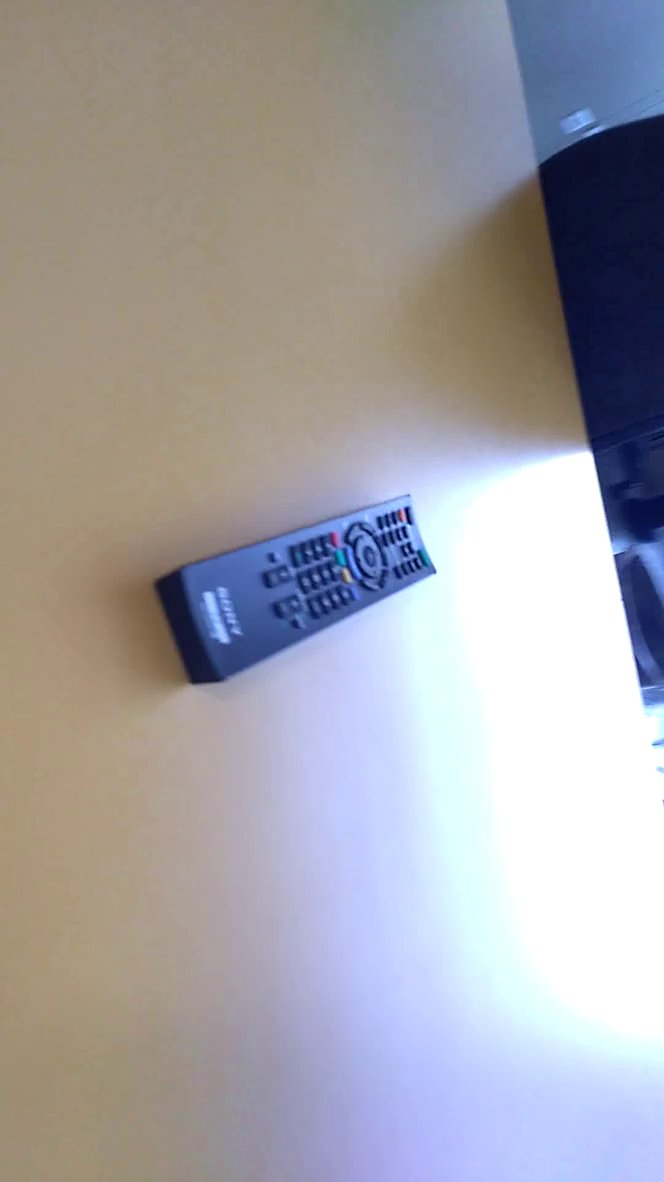remote: (143, 479, 454, 702)
